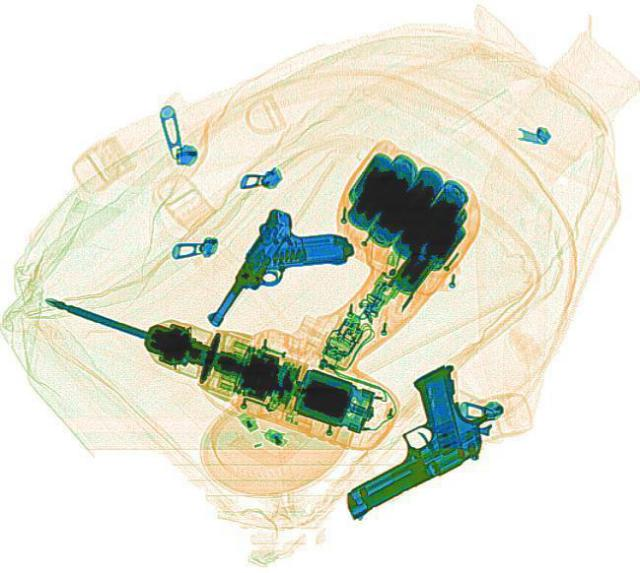Gun: (291, 355, 515, 519), (200, 203, 360, 356)
